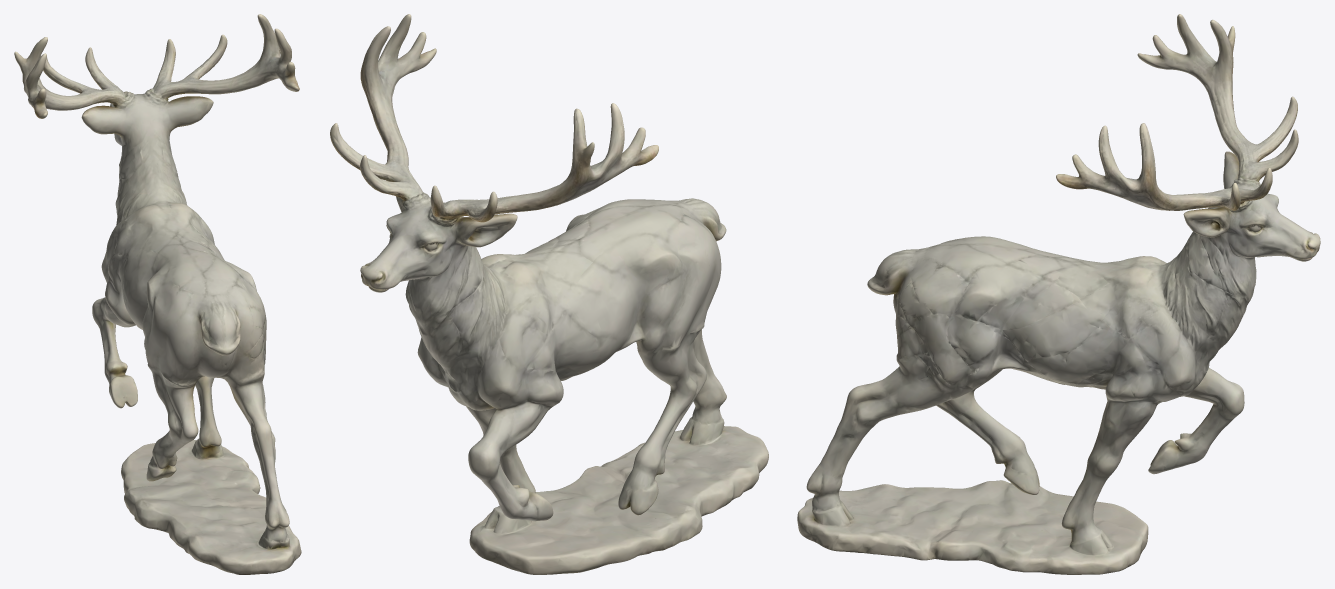
File: stag.glb
The picture shows the model from 3 angles, left to right: view 1: azimuth 30°, elevation 25°; view 2: azimuth 150°, elevation 25°; view 3: azimuth 270°, elevation 25°; orthographic projection. The views are drawn at different scales.
Parts seen in each view (by area): view 1: tripo_node_ee6bc255-3880-4155-9c55-be0d1126587a; view 2: tripo_node_ee6bc255-3880-4155-9c55-be0d1126587a; view 3: tripo_node_ee6bc255-3880-4155-9c55-be0d1126587a.
Part boxes in pixels (x1=…): tripo_node_ee6bc255-3880-4155-9c55-be0d1126587a: x1=14, y1=14, x2=301, y2=574; tripo_node_ee6bc255-3880-4155-9c55-be0d1126587a: x1=330, y1=14, x2=768, y2=574; tripo_node_ee6bc255-3880-4155-9c55-be0d1126587a: x1=797, y1=14, x2=1320, y2=574.
Bounding box in the file's own units: 0.5893 × 0.9775 × 0.9657.
1 material, 1 textured.
